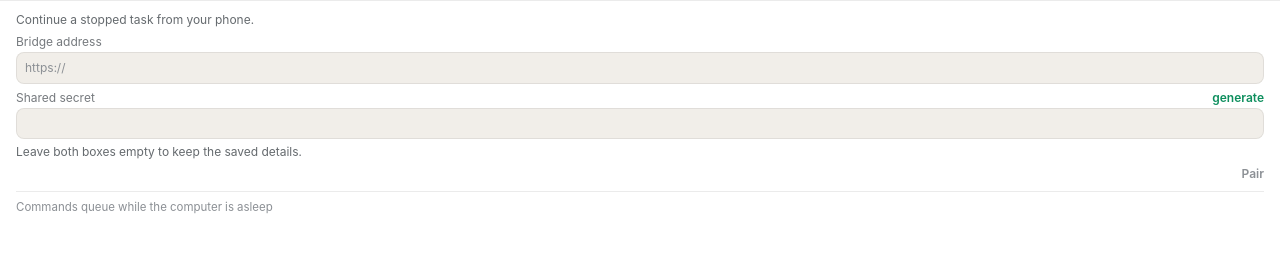
Test: the remote continuation page › refuses a half-filled pairing rather than sending one usable half
The image size is (1280, 255).
Type "https://bridge.example.com/x" into the field labelled "Bridge address". click: (640, 68)
box: [16, 52, 1264, 84]
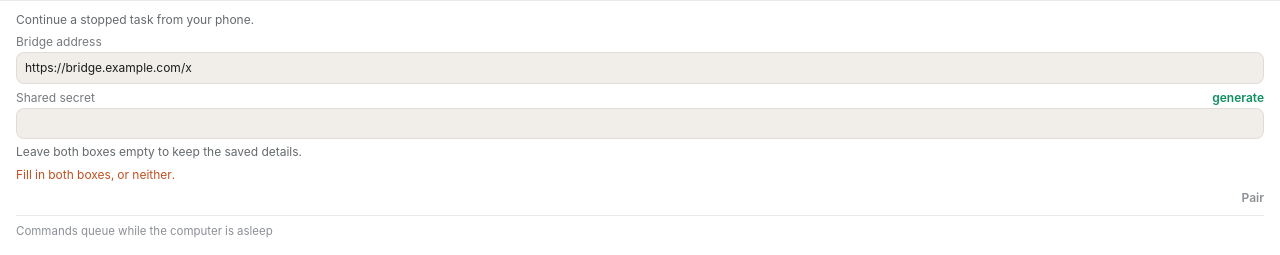
Now the text "Fill in both boxes, or neither." is shown, box [16, 167, 175, 182]
